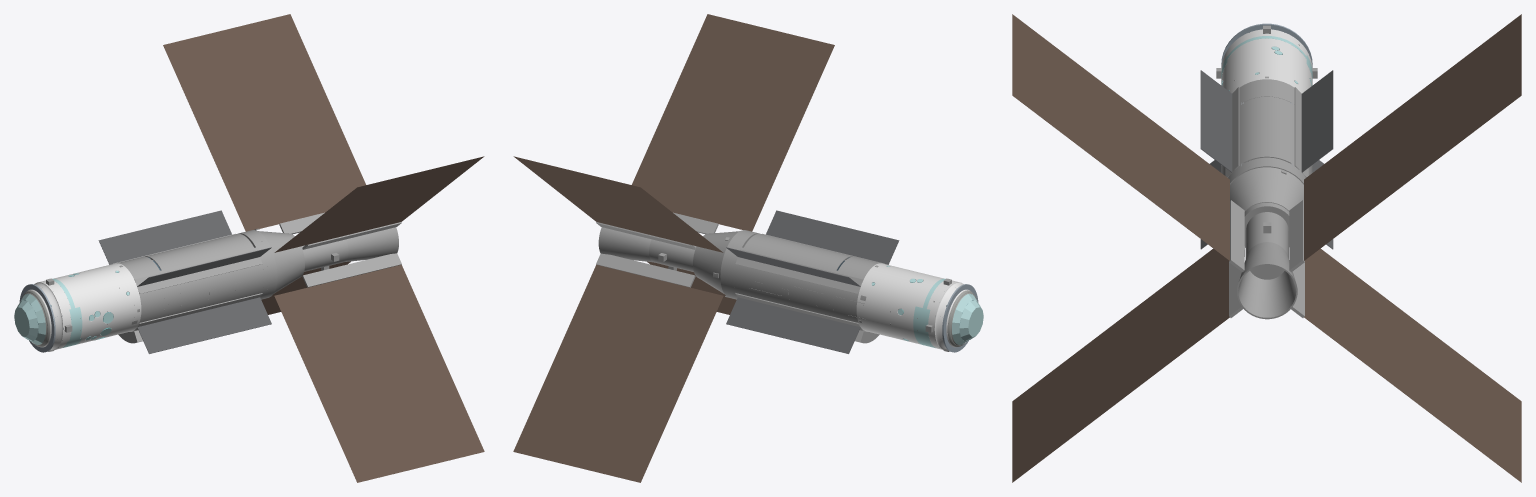
The model's file is wayfarer_full_radiator_states_88ce19fc_torch_stowed.glb.
The picture shows the model from 3 angles, left to right: view 1: azimuth 30°, elevation 25°; view 2: azimuth 150°, elevation 25°; view 3: azimuth 270°, elevation 25°; orthographic projection. The views are drawn at different scales.
Visible parts, largest first — view 1: dry:armor, dry:skin_midship, dry:hotfin_220:pleat_13, dry:hotfin_40:pleat_04, dry:hotfin_220:pleat_09, dry:hotfin_40:pleat_02, dry:hotfin_220:pleat_04, dry:hotfin_220:pleat_07, dry:hotfin_220:pleat_11, dry:hotfin_40:pleat_03, dry:hotfin_40:pleat_05, dry:hotfin_40:pleat_08 (+47 smaller); view 2: dry:armor, dry:skin_midship, dry:hotfin_320:pleat_13, dry:hotfin_140:pleat_04, dry:hotfin_320:pleat_09, dry:hotfin_140:pleat_02, dry:hotfin_320:pleat_04, dry:hotfin_320:pleat_07, dry:hotfin_320:pleat_11, dry:hotfin_140:pleat_03, dry:hotfin_140:pleat_05, dry:hotfin_140:pleat_08 (+47 smaller); view 3: dry:armor, dry:nozzle, dry:thrust_cone, dry:reactor, dry:door_port, dry:door_starboard, dry:hotfin_220:pleat_03, dry:hotfin_320:pleat_03, dry:hotfin_40:pleat_05, dry:hotfin_40:pleat_07, dry:hotfin_140:pleat_05, dry:hotfin_140:pleat_07 (+63 smaller).
Part boxes in pixels (box(x1,y1,x2,y2)): dry:armor: box(23, 263, 141, 350); dry:skin_midship: box(160, 247, 263, 316); dry:hotfin_220:pleat_13: box(351, 438, 484, 482); dry:hotfin_40:pleat_04: box(216, 134, 349, 178); dry:hotfin_220:pleat_09: box(327, 385, 460, 429); dry:hotfin_40:pleat_02: box(228, 161, 361, 205); dry:hotfin_220:pleat_04: box(298, 318, 431, 362); dry:hotfin_220:pleat_07: box(316, 358, 448, 402); dry:hotfin_220:pleat_11: box(339, 412, 472, 455); dry:hotfin_40:pleat_03: box(222, 147, 355, 191); dry:hotfin_40:pleat_05: box(210, 121, 343, 165); dry:hotfin_40:pleat_08: box(193, 81, 325, 125); dry:armor: box(856, 263, 974, 350); dry:skin_midship: box(734, 247, 837, 316); dry:hotfin_320:pleat_13: box(513, 438, 646, 482); dry:hotfin_140:pleat_04: box(648, 134, 781, 178); dry:hotfin_320:pleat_09: box(537, 385, 670, 429); dry:hotfin_140:pleat_02: box(636, 161, 769, 205); dry:hotfin_320:pleat_04: box(566, 318, 699, 362); dry:hotfin_320:pleat_07: box(549, 358, 681, 402); dry:hotfin_320:pleat_11: box(525, 412, 658, 455); dry:hotfin_140:pleat_03: box(642, 147, 775, 191); dry:hotfin_140:pleat_05: box(654, 121, 787, 165); dry:hotfin_140:pleat_08: box(672, 81, 804, 125); dry:armor: box(1221, 29, 1312, 93); dry:nozzle: box(1237, 242, 1297, 319); dry:thrust_cone: box(1230, 167, 1303, 247); dry:reactor: box(1245, 212, 1288, 279); dry:door_port: box(1242, 97, 1266, 163); dry:door_starboard: box(1267, 97, 1291, 163); dry:hotfin_220:pleat_03: box(1167, 271, 1183, 364); dry:hotfin_320:pleat_03: box(1350, 271, 1366, 364); dry:hotfin_40:pleat_05: box(1381, 109, 1397, 201); dry:hotfin_40:pleat_07: box(1412, 85, 1428, 177); dry:hotfin_140:pleat_05: box(1136, 109, 1152, 201); dry:hotfin_140:pleat_07: box(1105, 85, 1121, 177).
Size of the model in its own units: 54.5 by 42.11 by 50.18.
